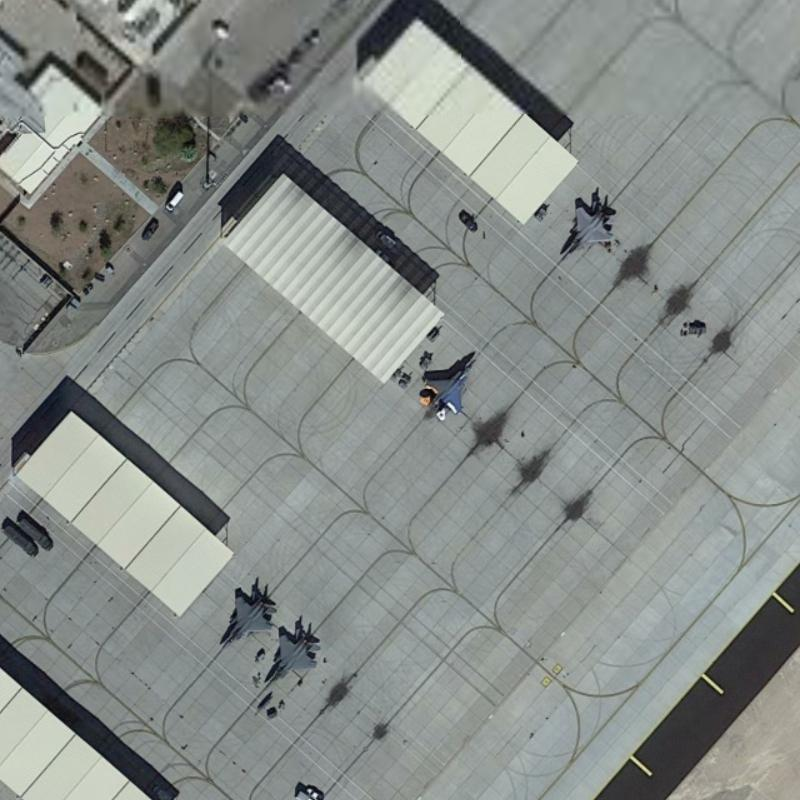A13: (214, 573, 278, 659), (414, 348, 487, 421), (559, 184, 628, 260), (256, 621, 322, 687)
